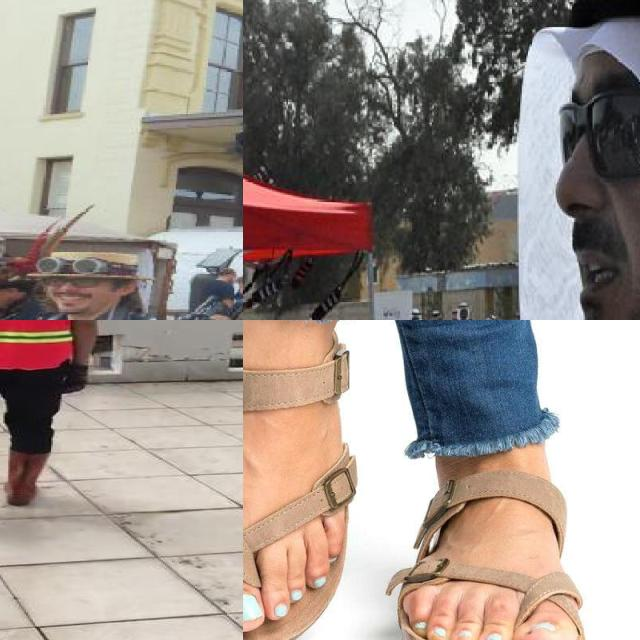Sandals: (396, 424, 589, 640), (243, 320, 363, 640)
boots: (5, 449, 47, 506)
face_nomask: (539, 97, 640, 320), (50, 276, 101, 310)
glasses: (561, 62, 640, 197)
hand_glove: (62, 364, 88, 393)
head_nohelmet: (513, 0, 640, 102)
person: (0, 320, 113, 524), (0, 243, 203, 320)
vest: (0, 320, 86, 368)
